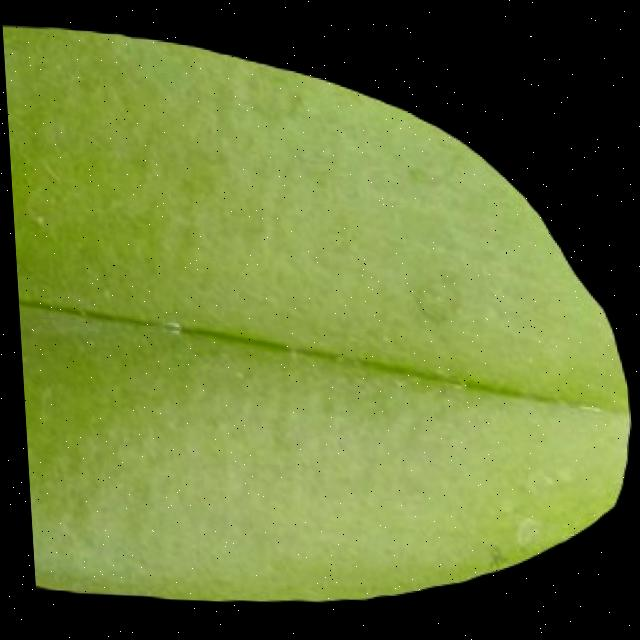mite: (477, 507, 542, 571), (498, 503, 547, 553), (408, 283, 449, 324), (474, 535, 509, 572), (506, 511, 539, 547), (152, 315, 184, 341), (405, 163, 427, 183), (482, 542, 501, 565), (158, 319, 180, 337)
spots: (3, 23, 639, 619)
